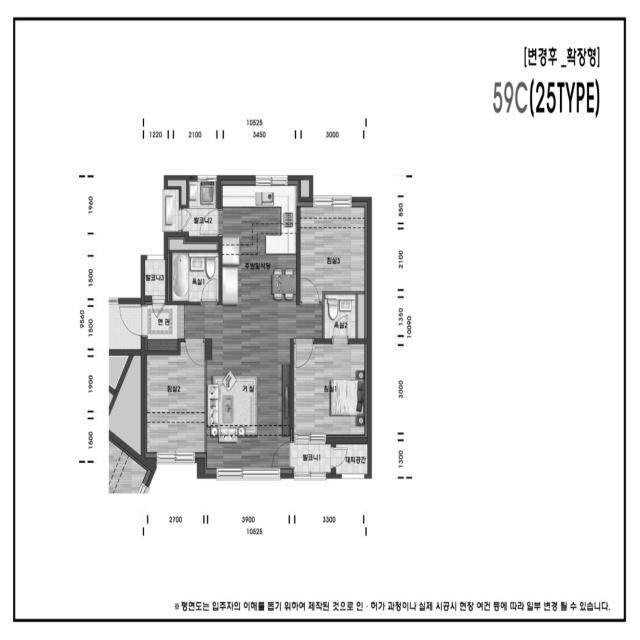space_balconi: (183, 181, 216, 236), (294, 444, 331, 472), (145, 260, 165, 295)
space_bedroom: (145, 342, 205, 458), (294, 344, 368, 438), (300, 202, 367, 301)
space_front: (145, 302, 184, 351)
space_kitchen: (221, 180, 296, 305)
space_living_room: (184, 305, 322, 474)
space_other: (336, 444, 367, 474), (168, 237, 218, 250), (164, 190, 179, 232), (168, 180, 186, 204), (358, 294, 367, 338), (301, 180, 309, 197)
space_toilet: (172, 253, 219, 302), (325, 295, 356, 339)
